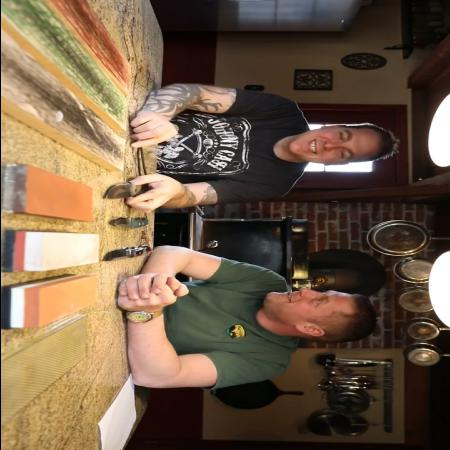long weapon: (97, 172, 159, 212)
